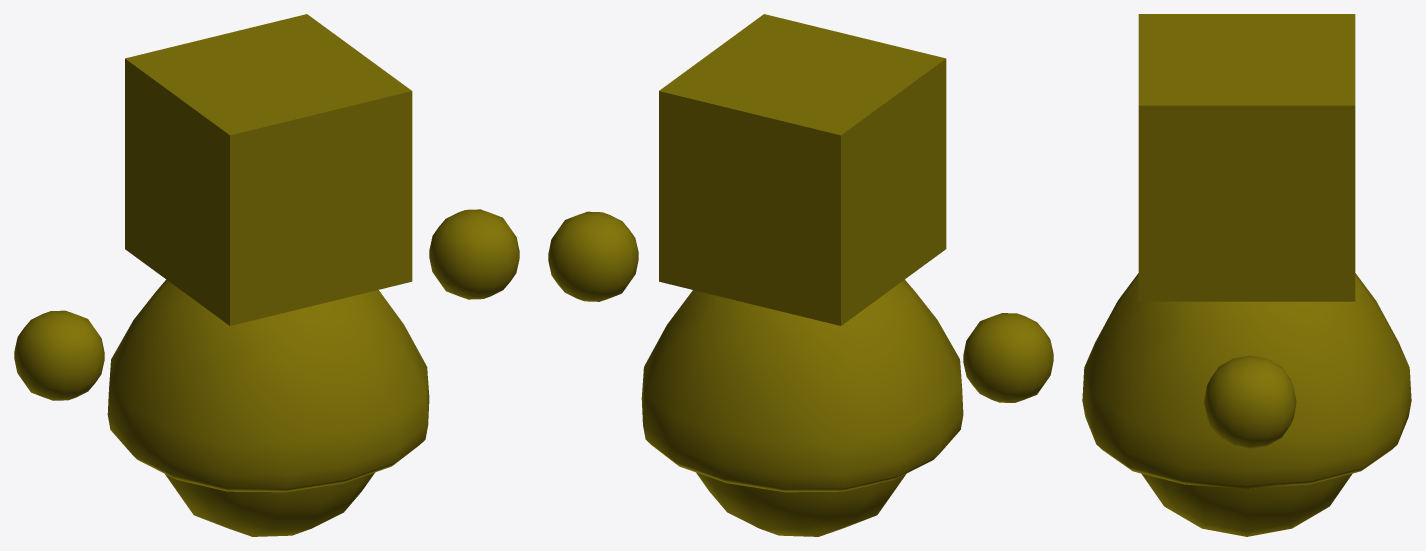
Rendered from SpiffingBritModel.fbx.
3 renders of one model, left to right at view 1: azimuth 30°, elevation 25°; view 2: azimuth 150°, elevation 25°; view 3: azimuth 270°, elevation 25°, orthographic. The views are drawn at different scales.
Visible parts, largest first — view 1: Head, Body, RollerBall, Hand_L, Hand_R; view 2: Head, Body, RollerBall, Hand_R, Hand_L; view 3: Head, Body, RollerBall, Hand_R.
Boxes of the visible parts, x1,y1,x2,y2 form: Head: [125, 14, 412, 325]; Body: [107, 279, 429, 492]; RollerBall: [165, 472, 374, 536]; Hand_L: [14, 310, 104, 400]; Hand_R: [429, 209, 519, 299]; Head: [659, 14, 946, 325]; Body: [641, 279, 963, 492]; RollerBall: [696, 472, 905, 536]; Hand_R: [548, 211, 638, 301]; Hand_L: [963, 313, 1053, 402]; Head: [1138, 14, 1355, 301]; Body: [1082, 273, 1411, 488]; RollerBall: [1141, 473, 1352, 536]; Hand_R: [1204, 355, 1296, 449].
Size of the model in its own units: 175 by 153 by 98.48.
